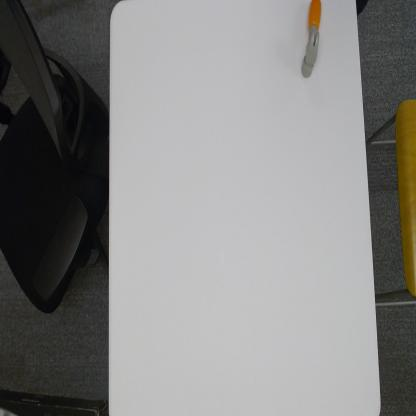Hammer: (302, 0, 322, 78)
